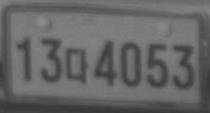0: (120, 41, 141, 87)
1: (15, 36, 36, 80)
3: (172, 44, 194, 89), (40, 38, 62, 82)
4: (93, 39, 117, 85)
5: (146, 43, 168, 87)
다: (65, 47, 89, 84)
